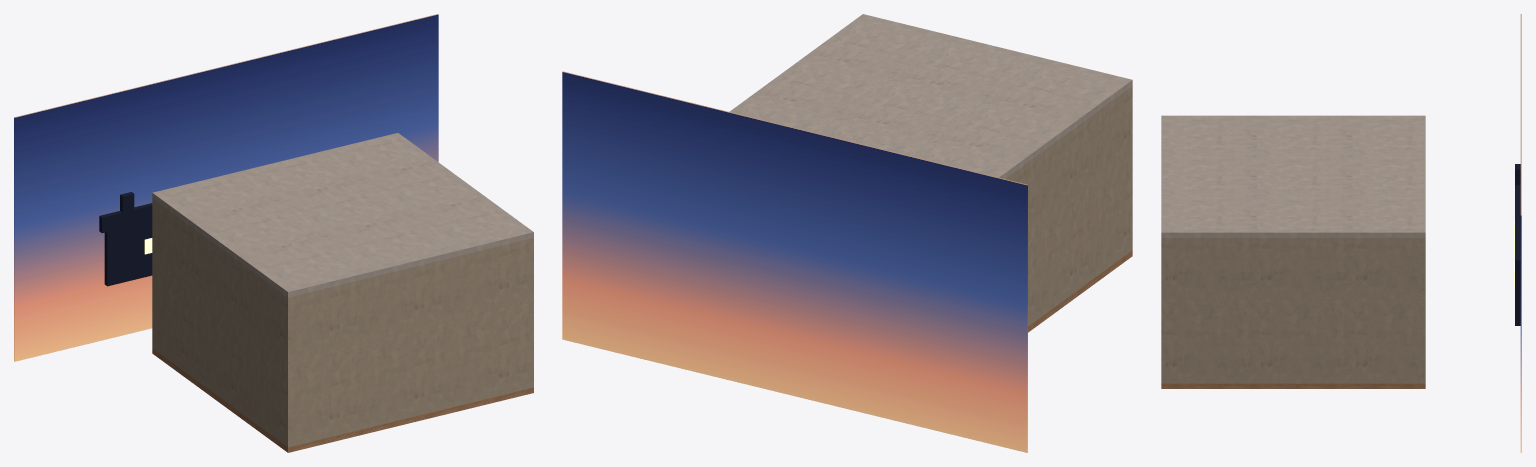
Rendered from kitchen.glb.
3 renders of one model, left to right at view 1: azimuth 30°, elevation 25°; view 2: azimuth 150°, elevation 25°; view 3: azimuth 270°, elevation 25°, orthographic. The views are drawn at different scales.
Parts seen in each view (by area): view 1: kitchen; view 2: kitchen; view 3: kitchen.
Part boxes in pixels (x1=…): kitchen: x1=14, y1=14, x2=533, y2=452; kitchen: x1=562, y1=14, x2=1132, y2=452; kitchen: x1=1161, y1=14, x2=1521, y2=452.
Size of the model in its own units: 8 by 4.4 by 6.05.
37 materials, 11 textured.
